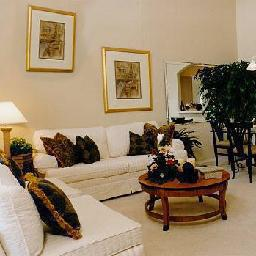Matera: (205, 65, 253, 174)
